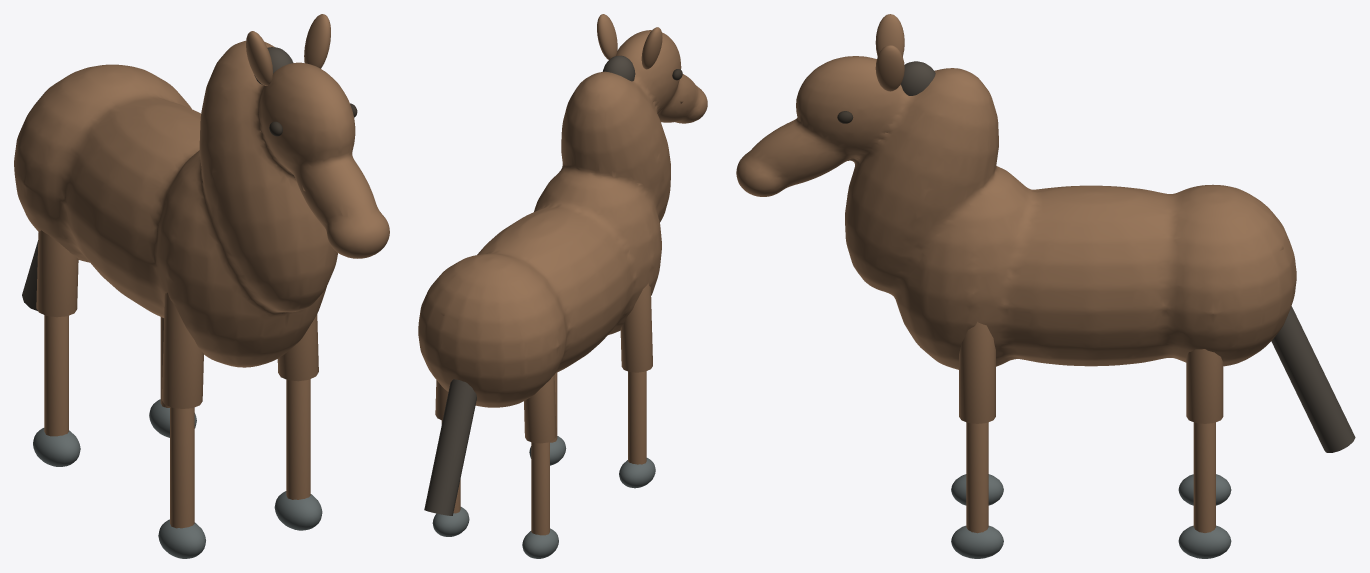
File: horse.glb
The picture shows the model from 3 angles, left to right: view 1: azimuth 30°, elevation 25°; view 2: azimuth 150°, elevation 25°; view 3: azimuth 270°, elevation 25°; orthographic projection. The views are drawn at different scales.
Visible parts, largest first — view 1: Barrel, Upper leg, Upper leg.001, Lower leg.001, Lower leg, Lower leg.002, Upper leg.002, Hoof.002, Hoof, Hoof.001, Upright ear.001, Upright ear (+2 smaller); view 2: Barrel, Tail, Upper leg, Lower leg, Lower leg.001, Upper leg.001, Hoof, Hoof.001, Hoof.003, Upright ear.001, Upright ear, Mane.006 (+2 smaller); view 3: Barrel, Tail, Upper leg.002, Upper leg.003, Lower leg.002, Lower leg.003, Hoof.002, Hoof.003, Upright ear.001, Mane.006, Upright ear, Hoof.
Boxes of the visible parts, box(x1,y1,x2,y2) form: Barrel: box(14, 40, 389, 367); Upper leg: box(162, 292, 203, 408); Upper leg.001: box(36, 230, 78, 317); Lower leg.001: box(44, 315, 68, 436); Lower leg: box(170, 407, 194, 528); Lower leg.002: box(286, 379, 310, 499); Upper leg.002: box(277, 314, 318, 381); Hoof.002: box(274, 491, 322, 530); Hoof: box(158, 519, 205, 558); Hoof.001: box(33, 428, 80, 466); Upright ear.001: box(304, 14, 330, 68); Upright ear: box(246, 31, 272, 85); Barrel: box(418, 30, 707, 407); Tail: box(424, 379, 476, 515); Upper leg: box(620, 283, 652, 372); Lower leg: box(628, 371, 646, 464); Lower leg.001: box(531, 442, 549, 535); Upper leg.001: box(524, 375, 556, 443); Hoof: box(619, 458, 655, 488); Hoof.001: box(522, 528, 558, 558); Hoof.003: box(432, 507, 469, 536); Upright ear.001: box(597, 14, 617, 59); Upright ear: box(641, 27, 662, 69); Mane.006: box(602, 55, 635, 81); Barrel: box(736, 56, 1296, 369); Tail: box(1271, 306, 1355, 452); Upper leg.002: box(959, 321, 995, 423); Upper leg.003: box(1186, 349, 1223, 423); Lower leg.002: box(966, 422, 988, 533); Lower leg.003: box(1193, 422, 1215, 532); Hoof.002: box(951, 525, 1003, 558); Hoof.003: box(1178, 525, 1231, 558); Upright ear.001: box(875, 45, 904, 91); Mane.006: box(900, 61, 935, 95); Upright ear: box(875, 14, 904, 56); Hoof: box(951, 474, 1003, 505).
Bounding box in the file's own units: 0.6746 × 2.09 × 2.34.
